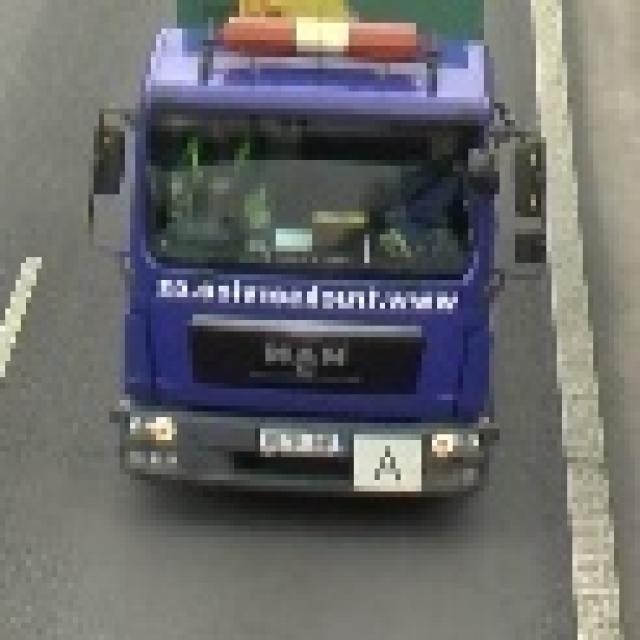truck: (88, 0, 541, 514)
